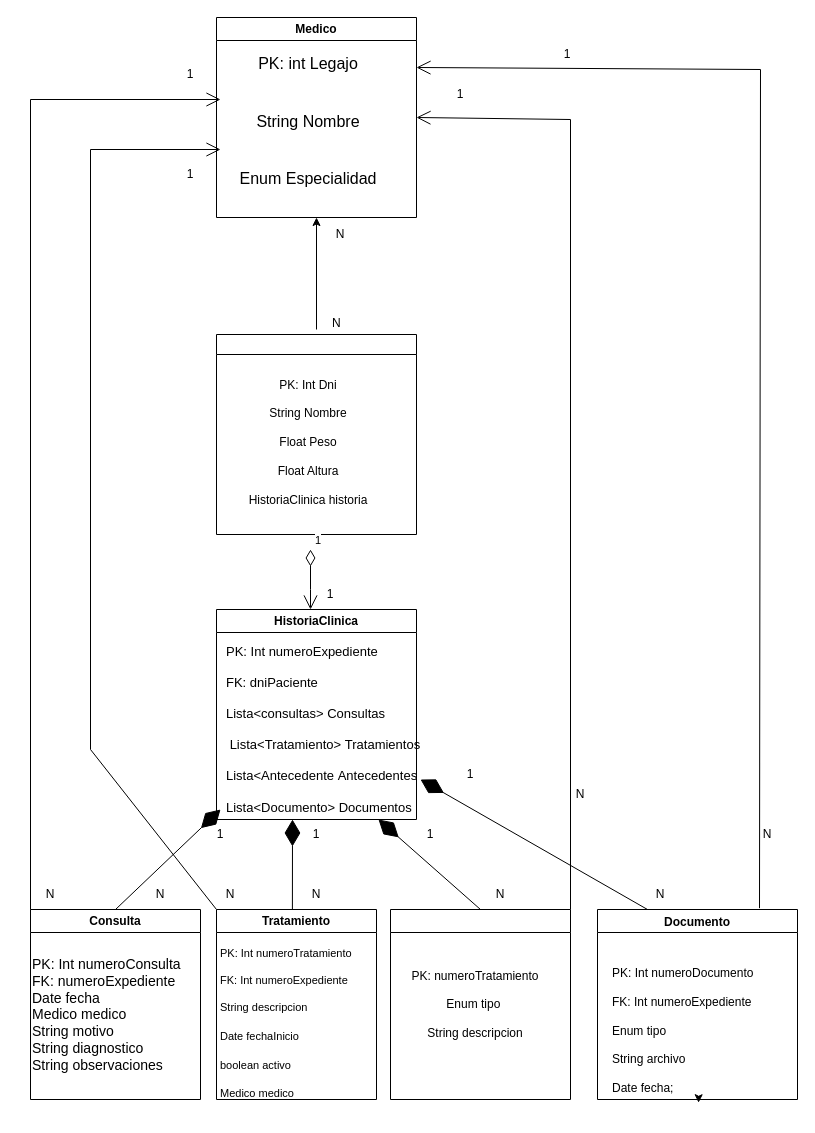
The diagram is 815 pixels wide and 1133 high, and some of its shapes have lost their labels. Here are the shapes that lost their labels. From the top down, the box of each, then its label:
(216, 334, 416, 534): Paciente
(390, 908, 570, 1100): Antecedentes
